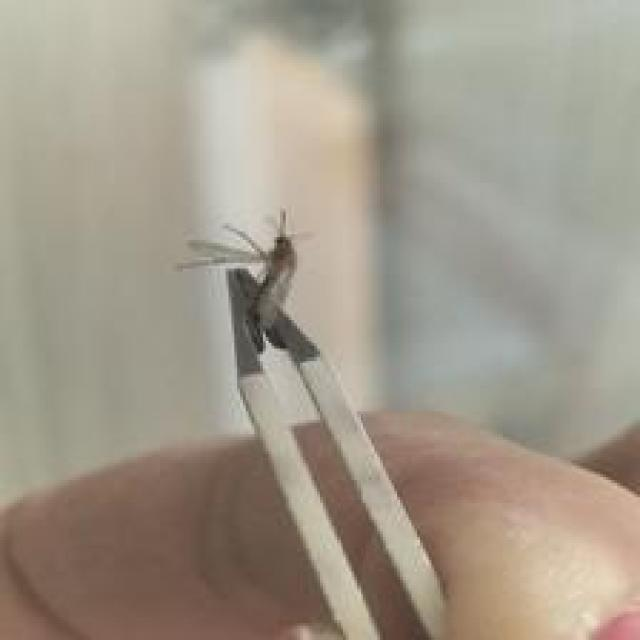Culex: (174, 205, 459, 640)
